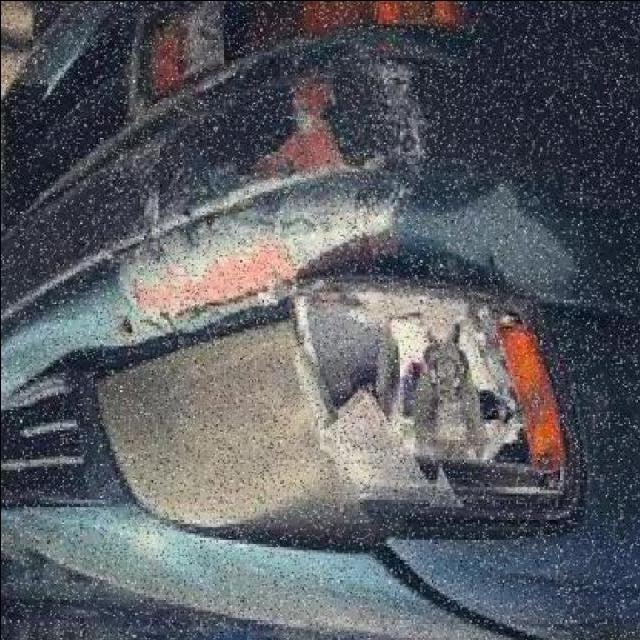Headlight-Damage: (291, 272, 614, 570)
front-bumper-dent: (7, 3, 628, 352)
